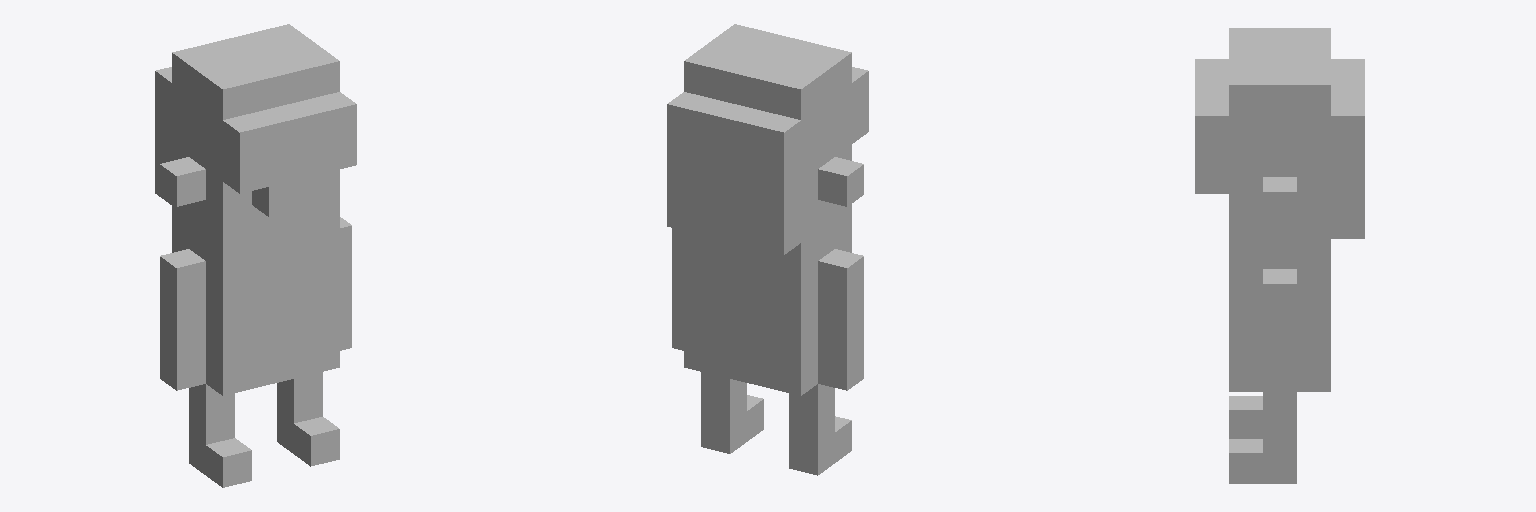
File: randomowy joe-00.obj
The picture shows the model from 3 angles: view 1: azimuth 30°, elevation 25°; view 2: azimuth 150°, elevation 25°; view 3: azimuth 270°, elevation 25°; orthographic projection.
Bounding box in the file's own units: 6 × 13 × 5.